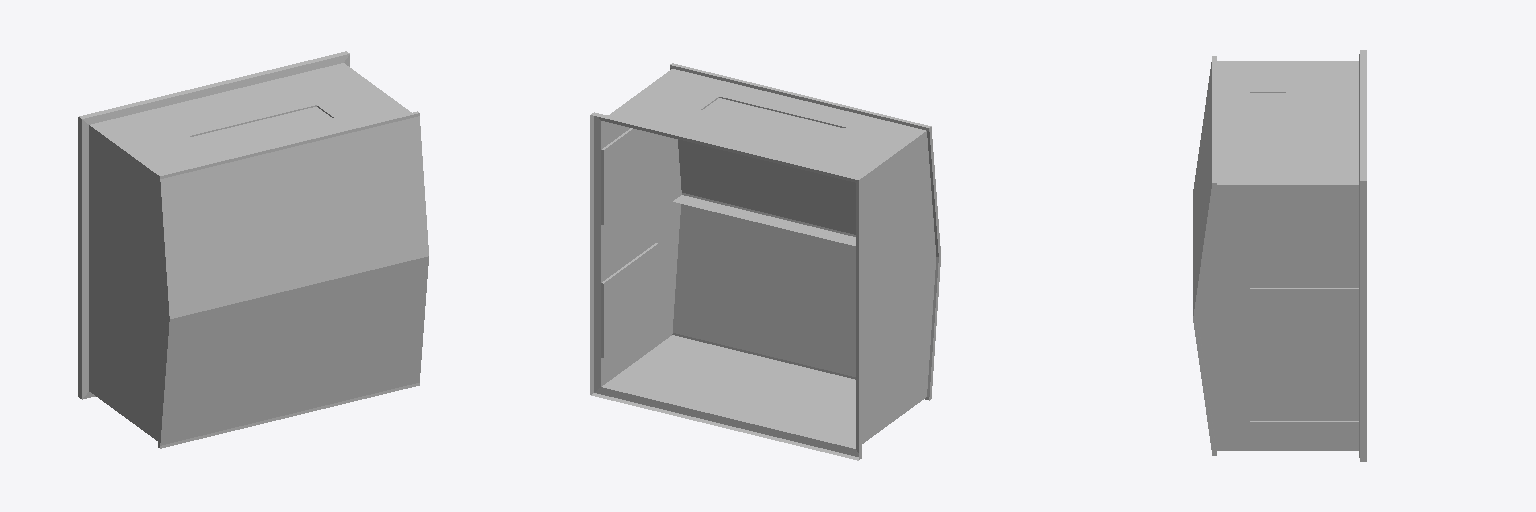
Rendered from igs_warehouse_1.obj.
3 views of the same model, side by side, from view 1: azimuth 30°, elevation 25°; view 2: azimuth 150°, elevation 25°; view 3: azimuth 270°, elevation 25° (orthographic).
Bounding box in the file's own units: 1 × 1 × 0.562.